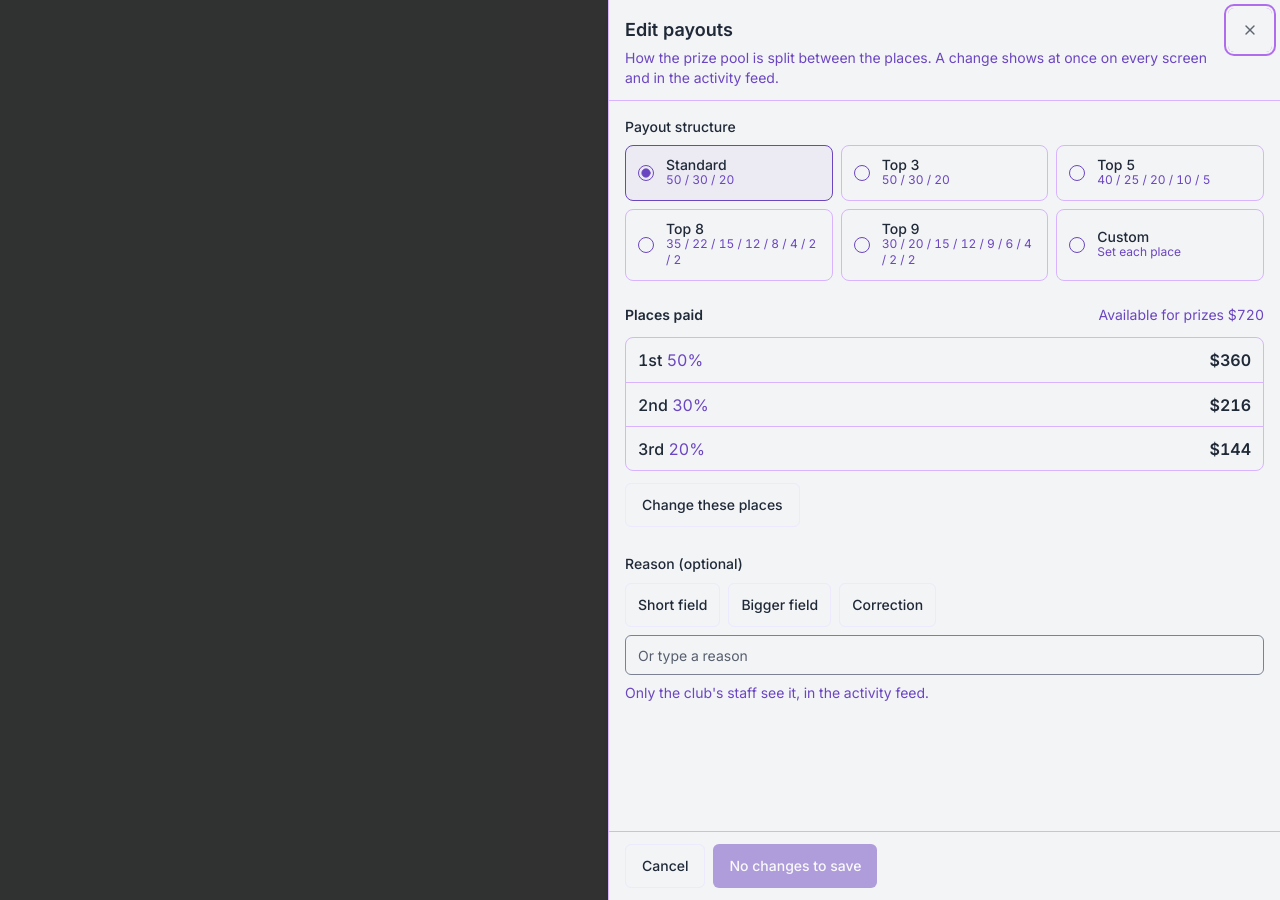
Test case: PayoutEditorSheet › switches to a preset and saves it, showing the answer at once
The width and height of the screenshot is (1280, 900).
Click the radio button named "Top 5" next to "Top 5" at (1077, 173), box [1069,165,1085,181]
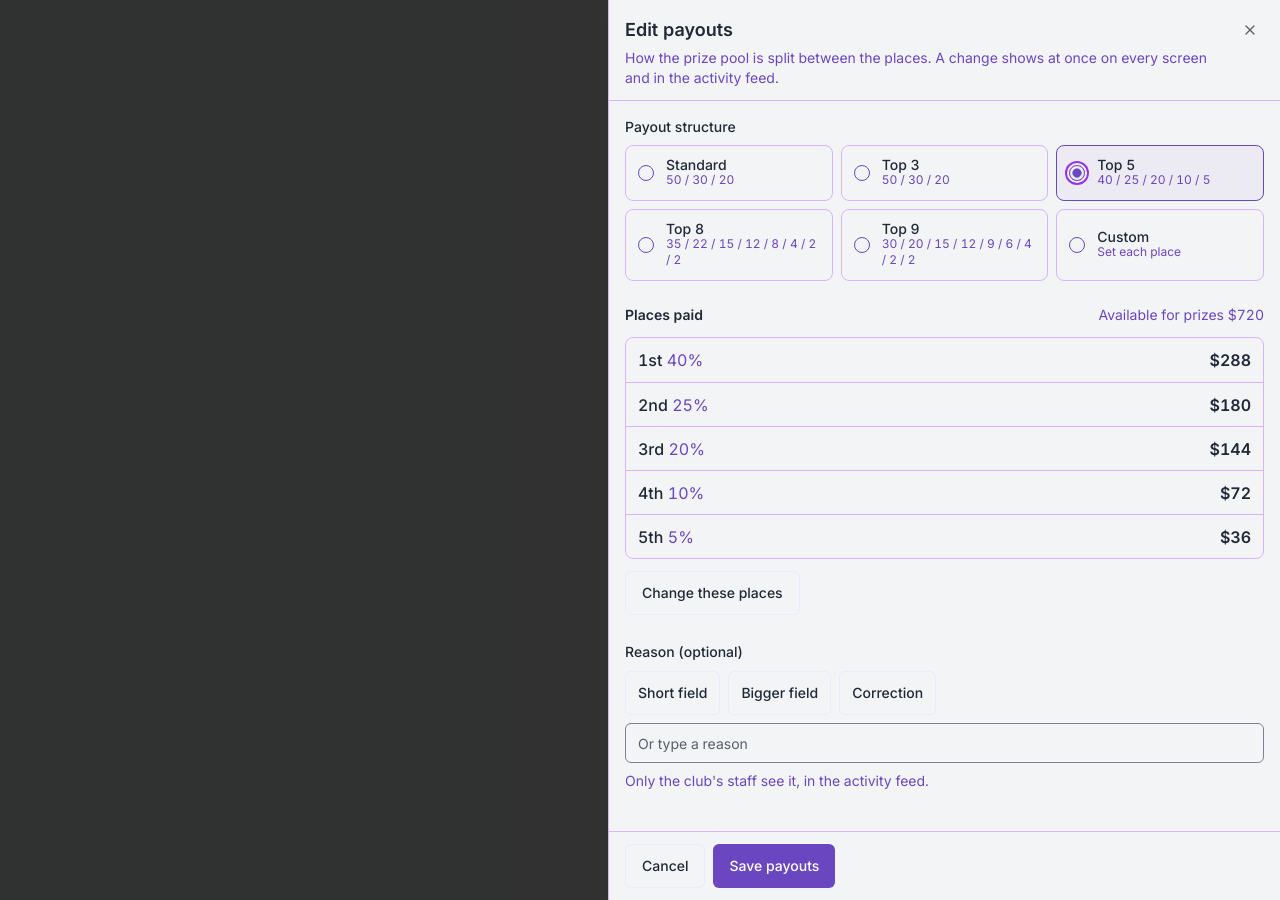
Click the button with test id "save-payouts" at (774, 866), box [714,844,835,888]
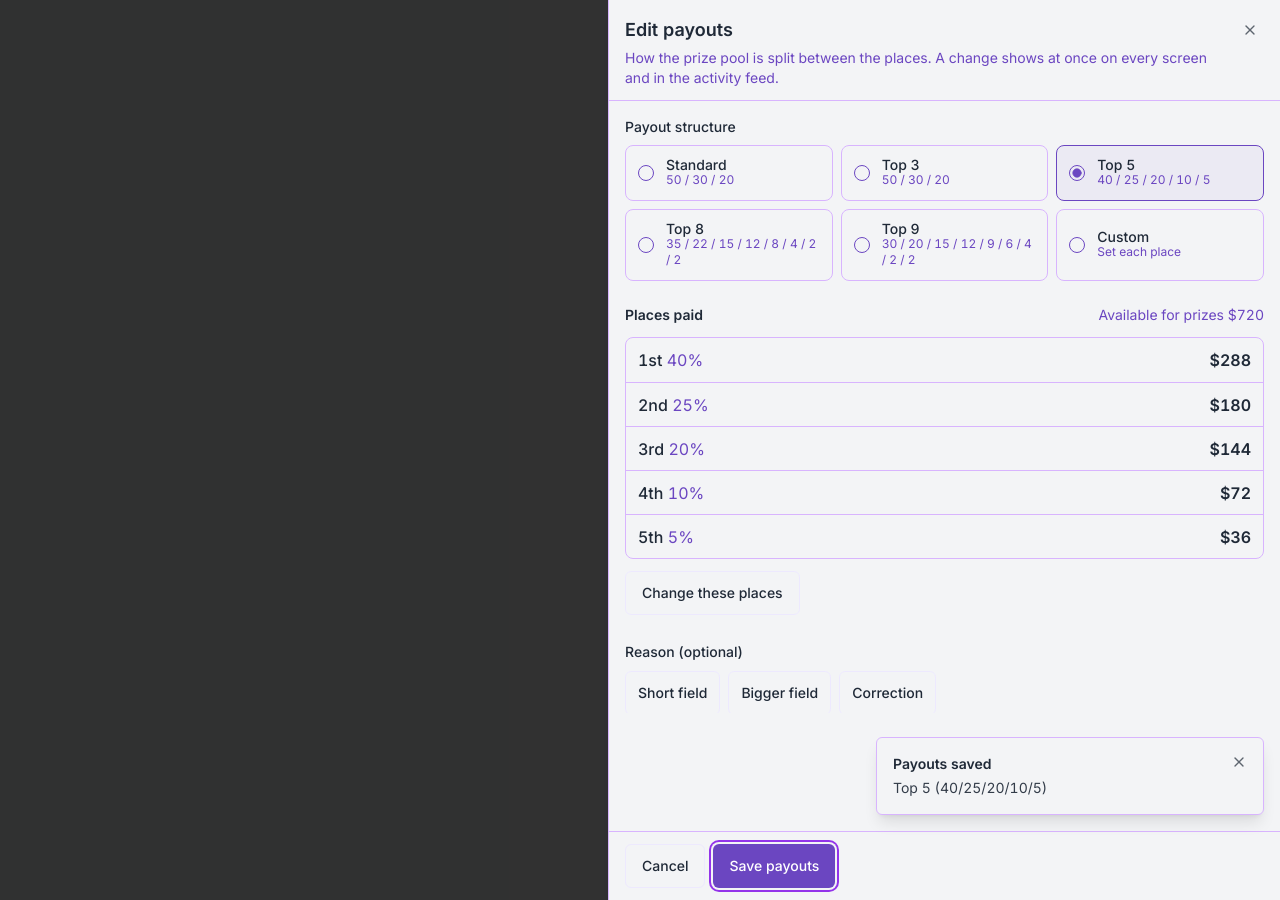
Now the text "Payouts saved" is shown, box [893,755,992,772]
Now the text "Top 5 (40/25/20/10/5)" is shown, box [893,779,1047,796]
